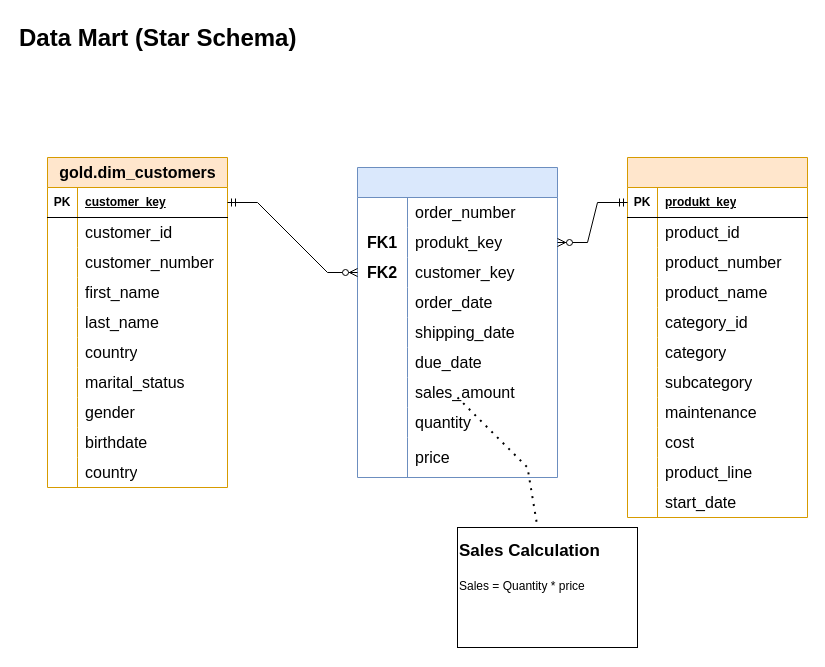
This 825x667 diagram has some shape labels left out. The shapes that lost their labels are listed below. From the top down, each one's box as (x1, y1, x2, y2) in pixels, then its label:
(356, 166, 558, 478): gold.fact_sales
(626, 156, 808, 518): gold.dim_products
